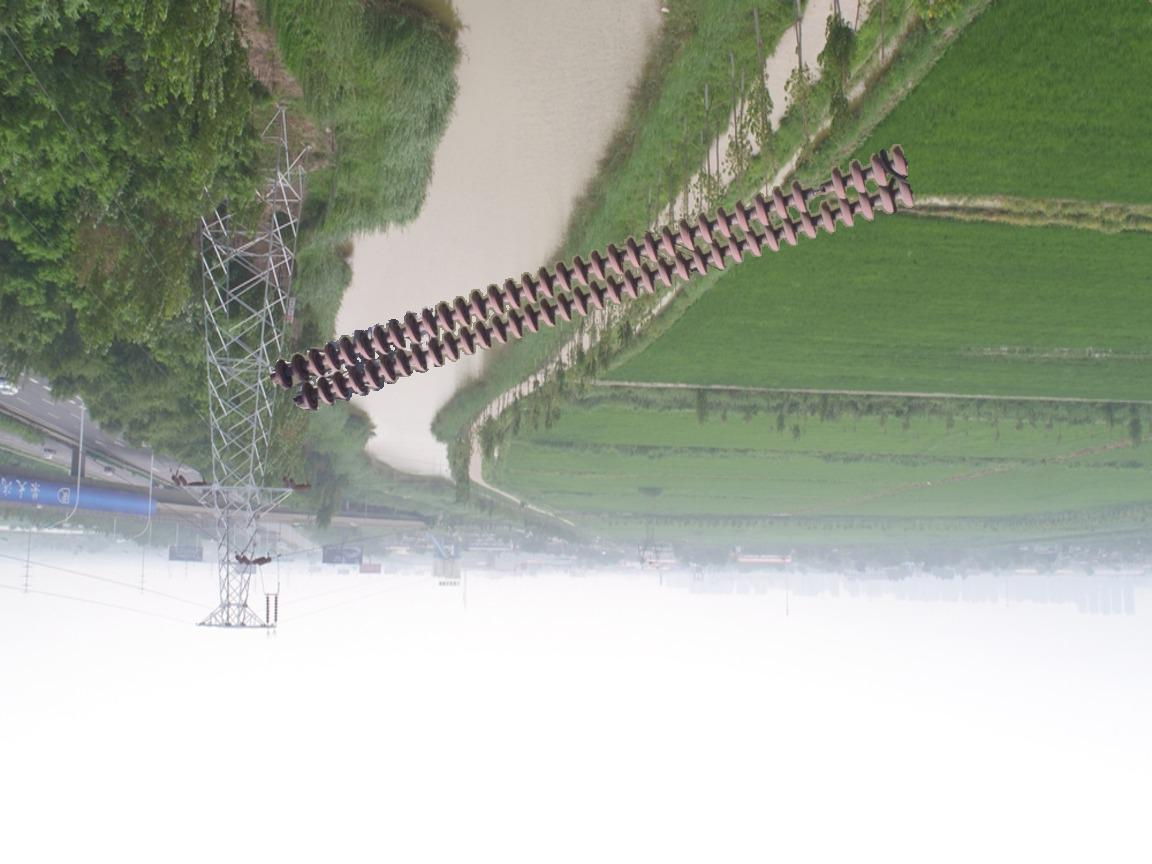insulator: (269, 137, 922, 414)
insulator_stringdrop: (789, 165, 848, 216)
